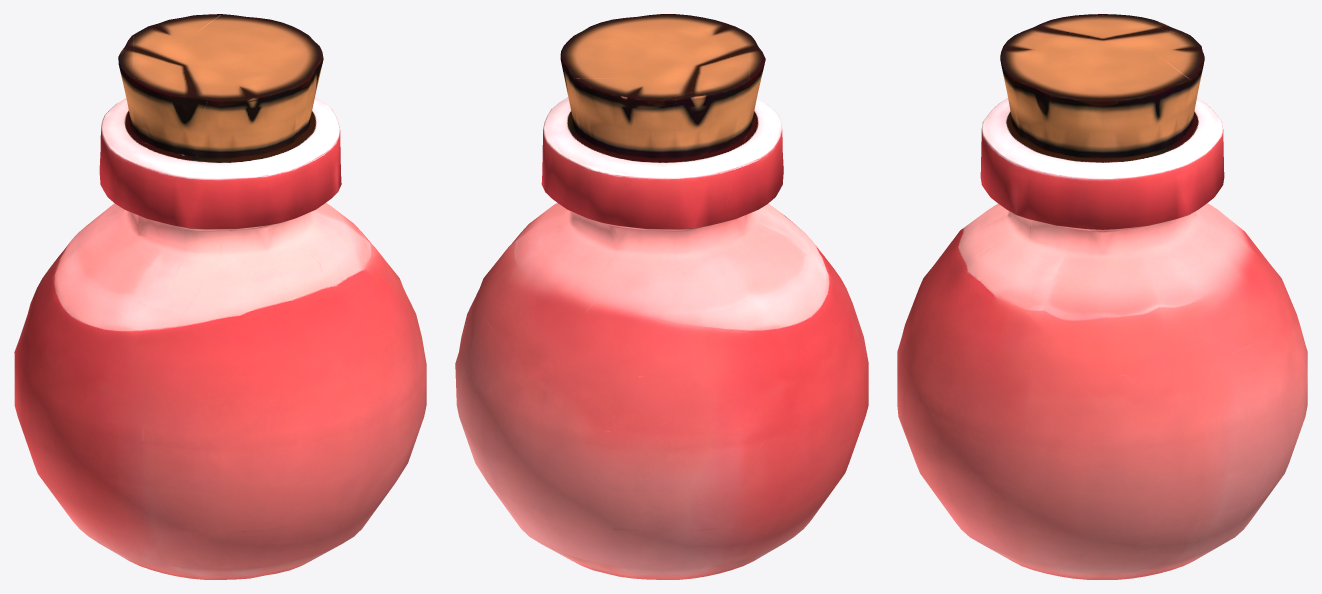
Rendered from health-ld.glb.
The picture shows the model from 3 angles, left to right: view 1: azimuth 30°, elevation 25°; view 2: azimuth 150°, elevation 25°; view 3: azimuth 270°, elevation 25°; orthographic projection.
Bounding box in the file's own units: 1.48 × 1.9 × 1.48.
Materials: 1 (1 with a texture image).
